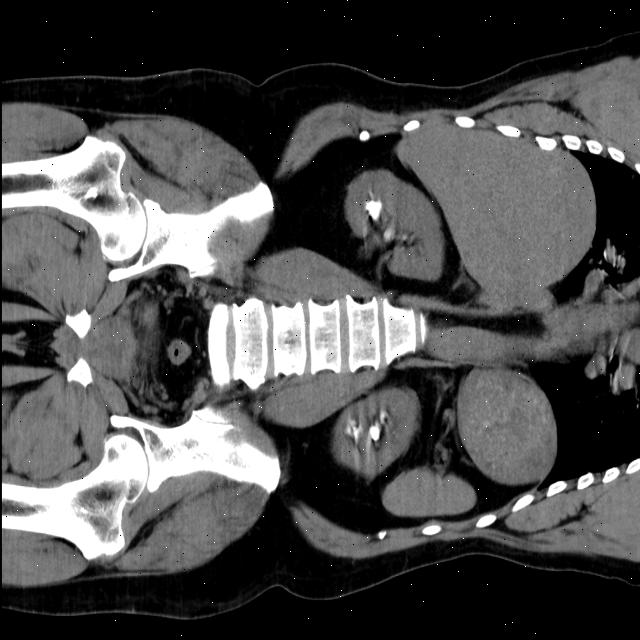kidneystone: (365, 200, 381, 222), (368, 423, 380, 442), (348, 426, 360, 438)
